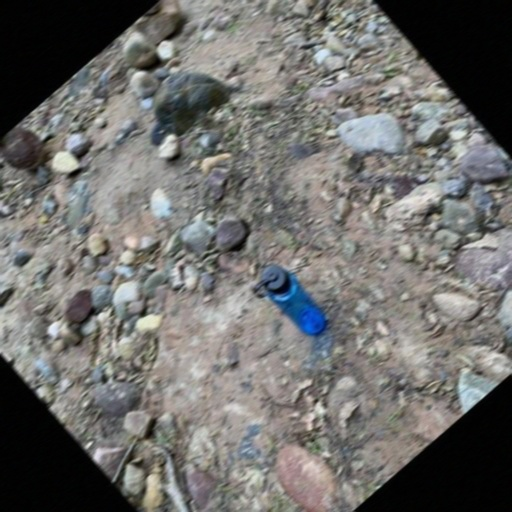bottle: (245, 254, 335, 348)
